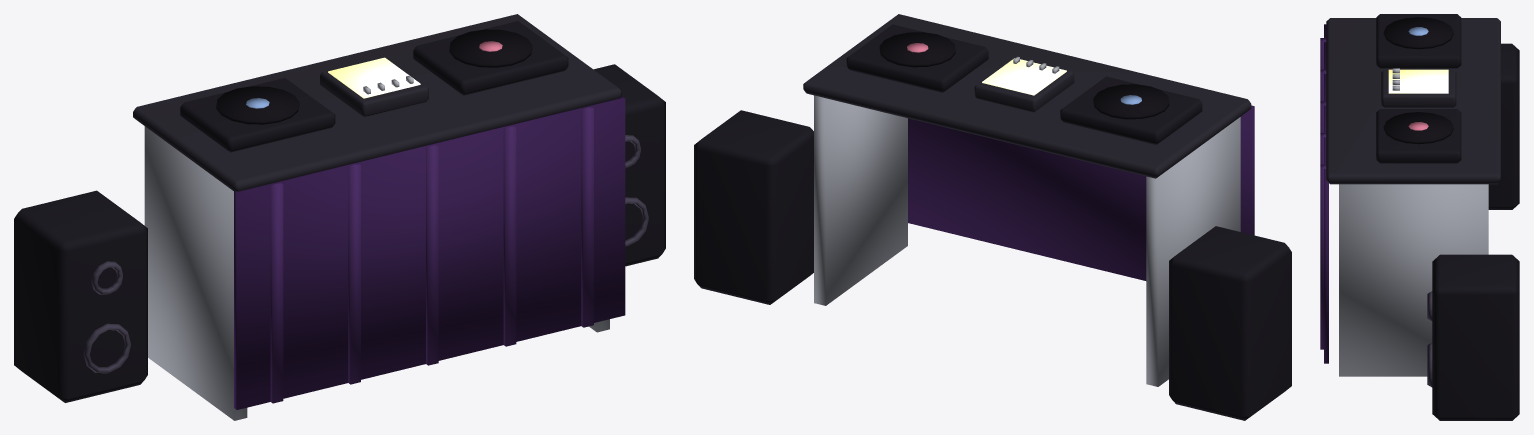
Rendered from dj_table.glb.
3 views of the same model, side by side, from view 1: azimuth 30°, elevation 25°; view 2: azimuth 150°, elevation 25°; view 3: azimuth 270°, elevation 25° (orthographic). The views are drawn at different scales.
Parts seen in each view (by area): view 1: dj_table, platter_L, platter_R, glow_panel; view 2: dj_table, platter_L, platter_R, glow_panel; view 3: dj_table, platter_R, platter_L, glow_panel.
Boxes of the visible parts, x1,y1,x2,y2 form: dj_table: (14,14,665,420); platter_L: (216,86,299,124); platter_R: (449,29,532,67); glow_panel: (328,57,420,98); dj_table: (694,14,1291,420); platter_L: (1093,84,1169,119); platter_R: (879,32,955,67); glow_panel: (982,56,1066,95); dj_table: (1320,14,1519,420); platter_R: (1383,112,1453,144); platter_L: (1383,17,1453,49); glow_panel: (1388,68,1448,93).
Size of the model in its own units: 2.35 by 0.985 by 0.8.
